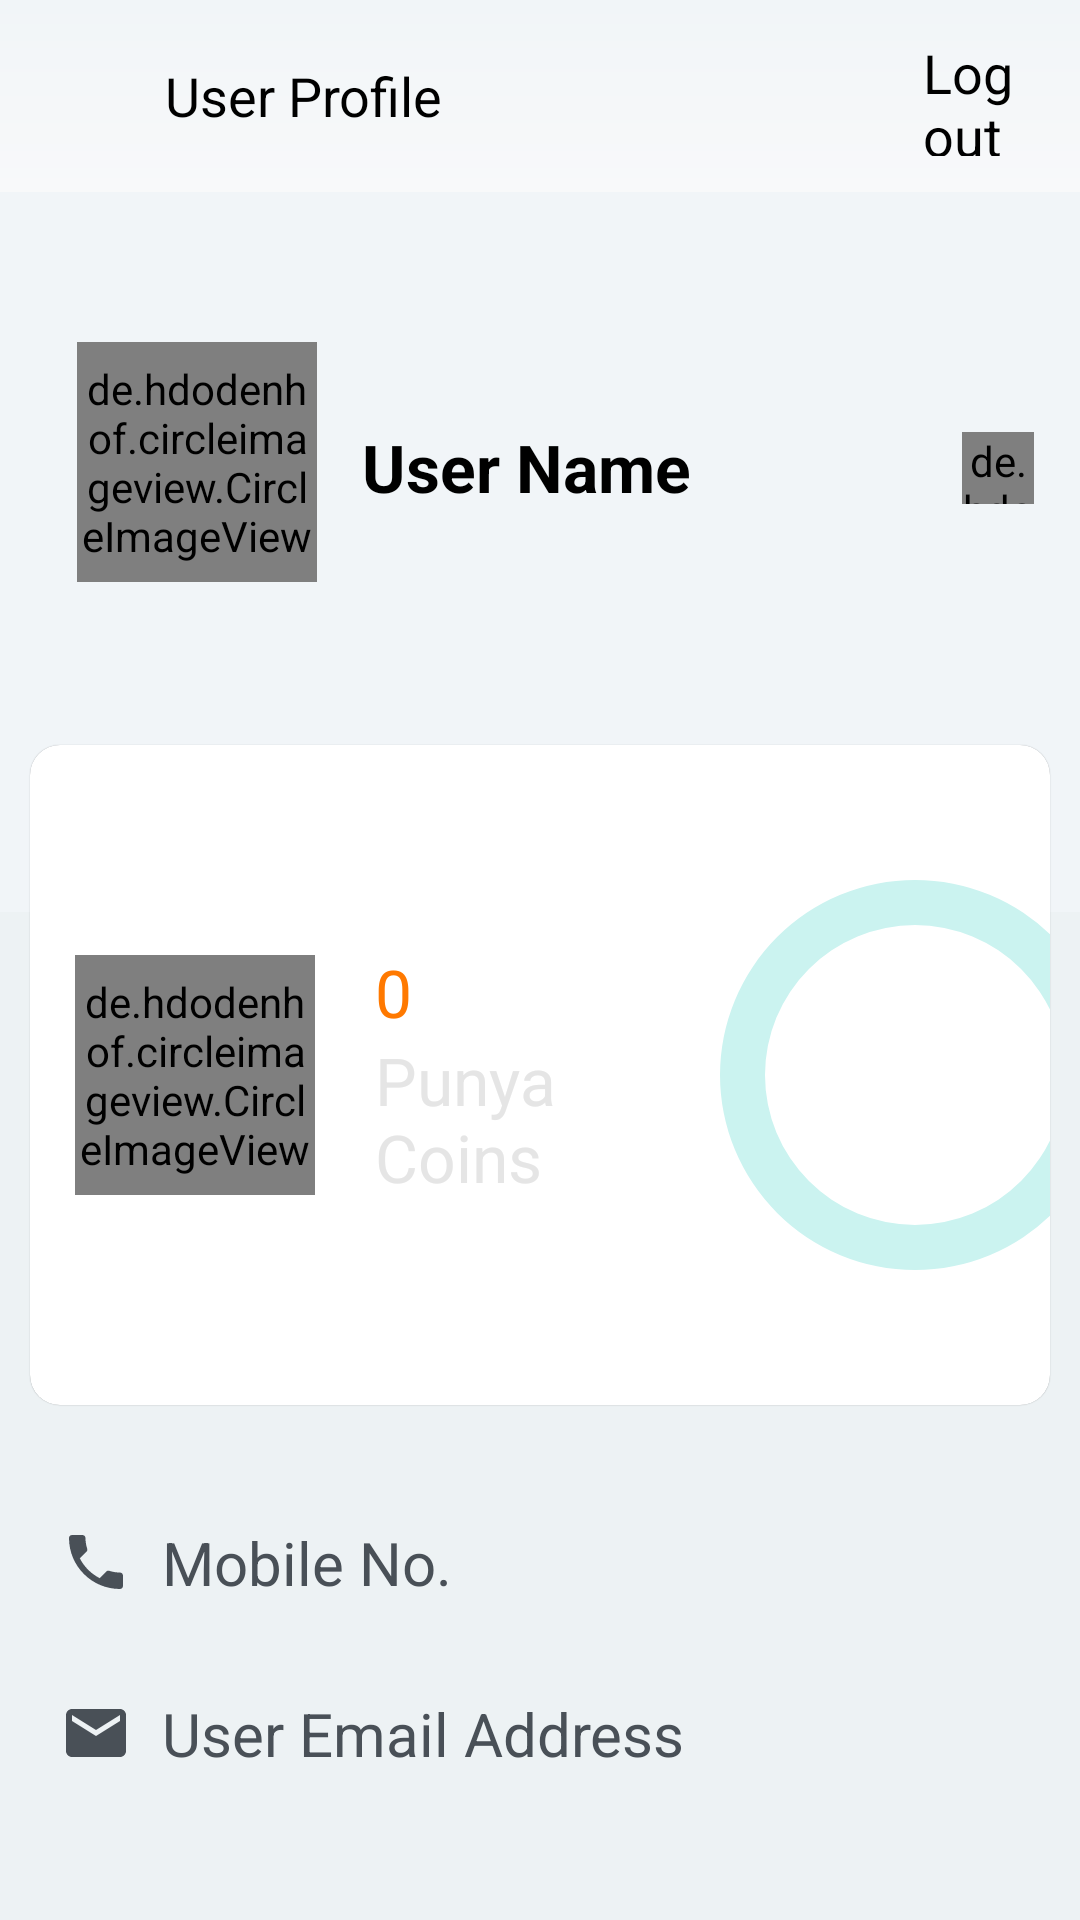

Locate icon controls on the screen. Image size 1080 × 1920, boxes as region(x1, y1, x2, y2).
phone: region(69, 1535, 123, 1589)
